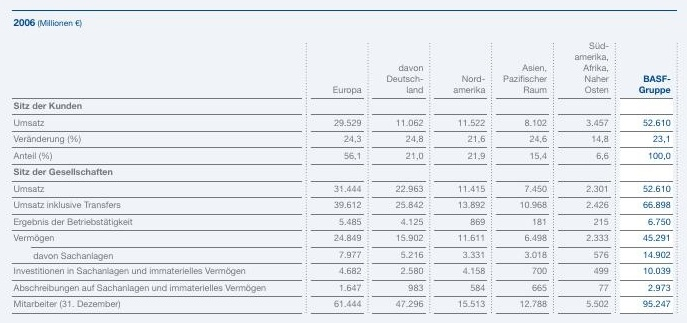table: (0, 0, 687, 323)
